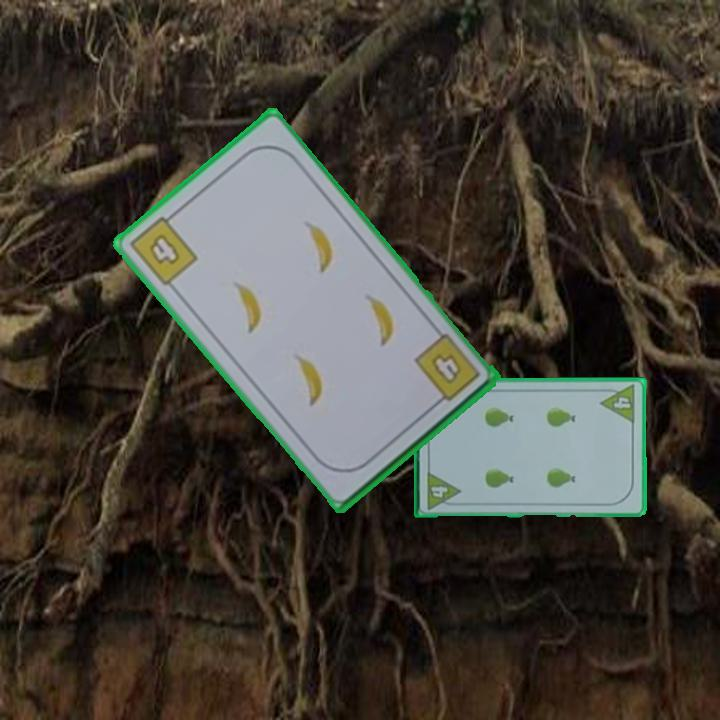4b: (125, 207, 201, 289), (428, 349, 461, 384)
4p: (597, 381, 638, 426), (423, 468, 463, 512)
